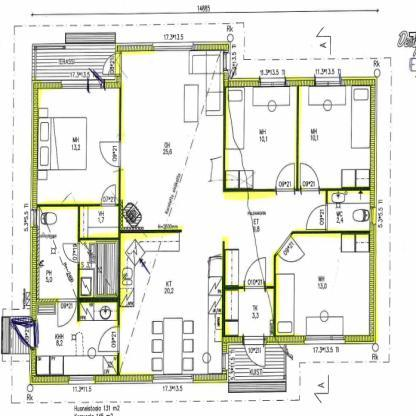door: (241, 253, 271, 292), (242, 333, 270, 370), (275, 234, 306, 265), (271, 161, 298, 196), (96, 324, 124, 356), (96, 139, 124, 171), (303, 204, 330, 235), (298, 162, 322, 194), (53, 297, 76, 328), (100, 181, 120, 209)
window: (58, 76, 107, 94), (299, 332, 348, 348), (149, 41, 196, 57), (148, 372, 198, 387), (254, 75, 288, 90), (65, 373, 96, 389), (311, 74, 345, 88), (27, 208, 40, 231), (368, 206, 378, 225)
